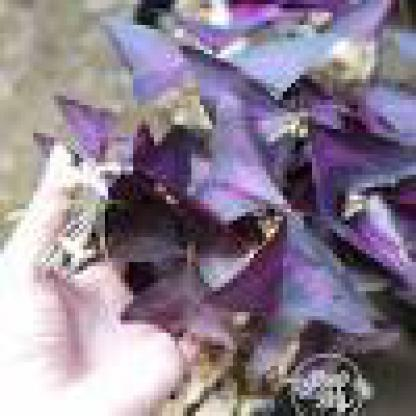Kupu-Kupu: (180, 113, 371, 334)
